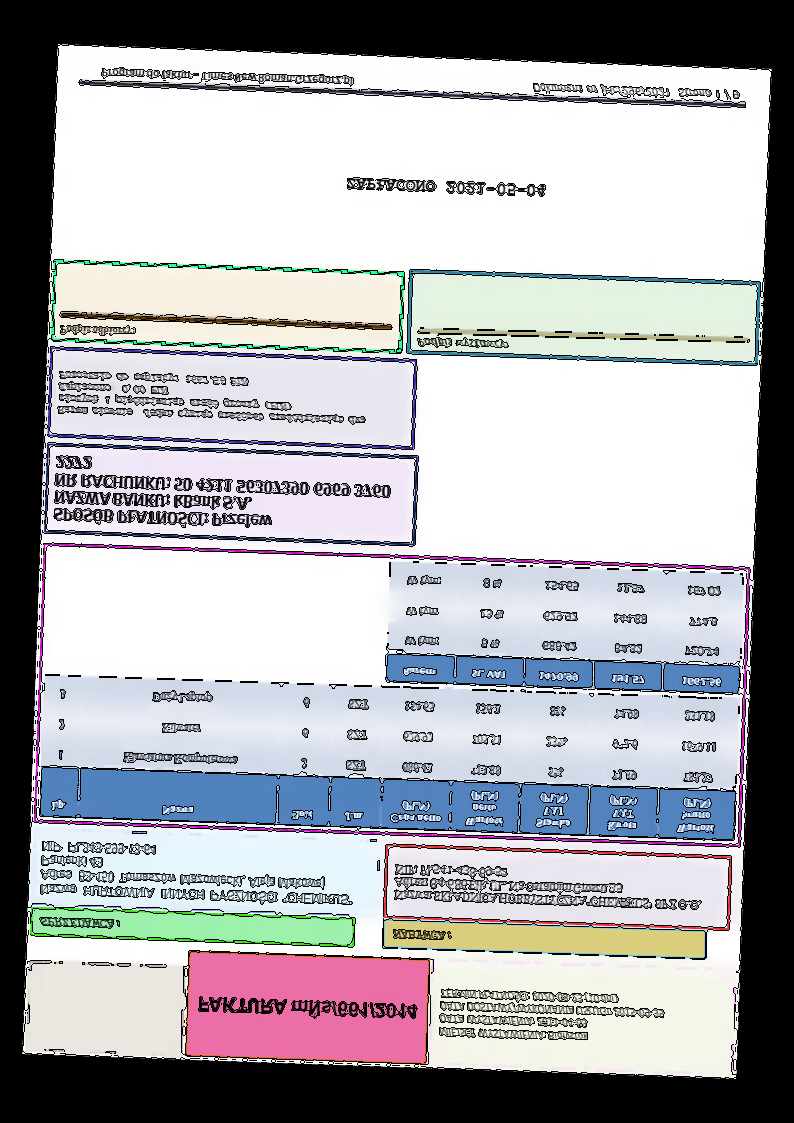Table: (39, 673, 740, 842), (384, 560, 745, 696)
TextBox: (51, 453, 392, 536), (38, 838, 357, 909), (55, 368, 370, 429), (391, 861, 705, 914), (437, 987, 666, 1047), (197, 994, 419, 1024), (100, 64, 355, 88), (345, 175, 548, 200), (530, 80, 740, 102), (415, 335, 510, 352), (38, 915, 122, 931), (58, 322, 135, 339), (390, 927, 453, 942)
